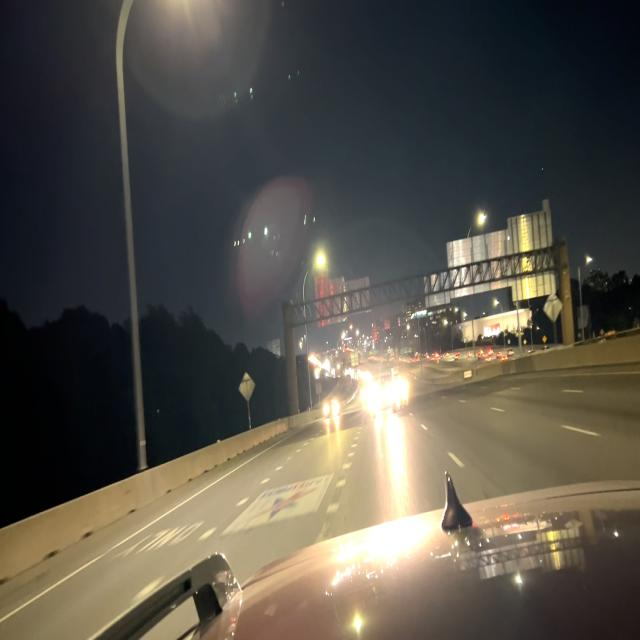back-of-sign: (423, 198, 555, 306), (314, 277, 373, 329), (237, 370, 256, 403), (542, 293, 561, 324)
